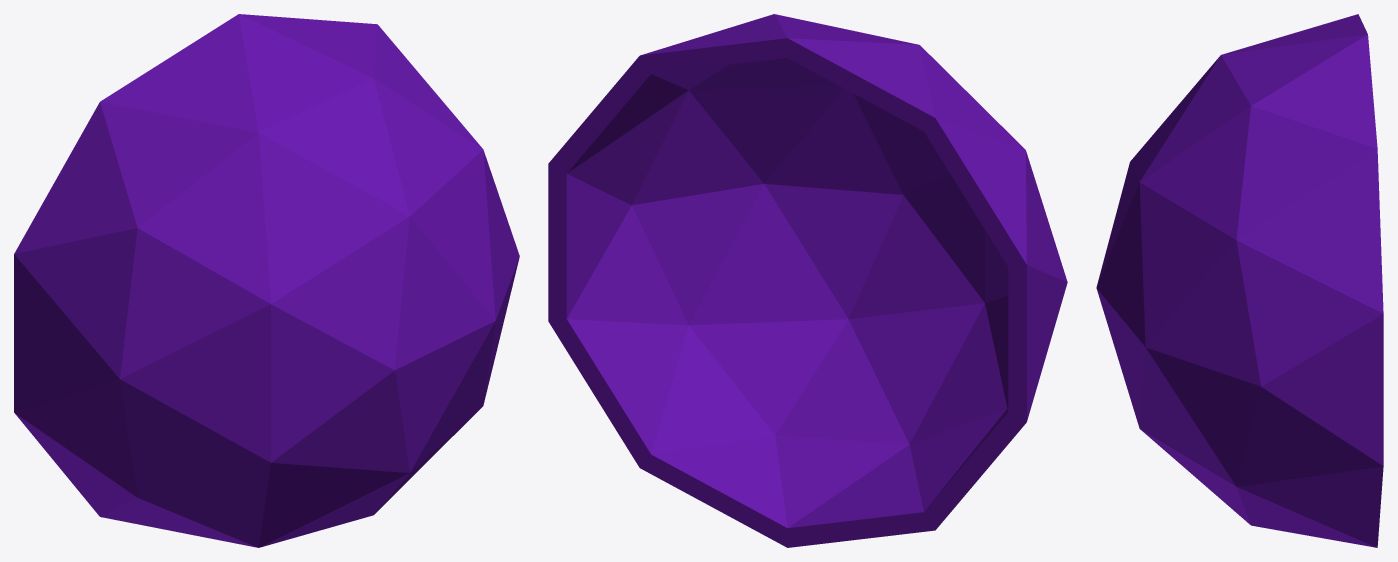
The model's file is Exhibition_12_chunks.fbx.
3 renders of one model, left to right at view 1: azimuth 30°, elevation 25°; view 2: azimuth 150°, elevation 25°; view 3: azimuth 270°, elevation 25°, orthographic. The views are drawn at different scales.
Visible parts, largest first — view 1: Exhibition_12_0; view 2: Exhibition_12_0; view 3: Exhibition_12_0.
Part boxes in pixels (<box>): Exhibition_12_0: <box>14,14,519,547</box>; Exhibition_12_0: <box>548,14,1067,547</box>; Exhibition_12_0: <box>1096,14,1383,547</box>.
Size of the model in its own units: 339 by 357 by 189.
